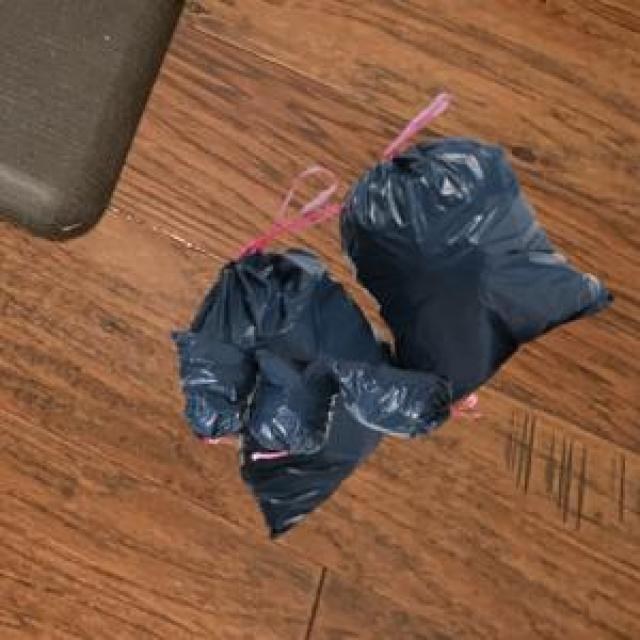Vinyl: (175, 138, 610, 529)
